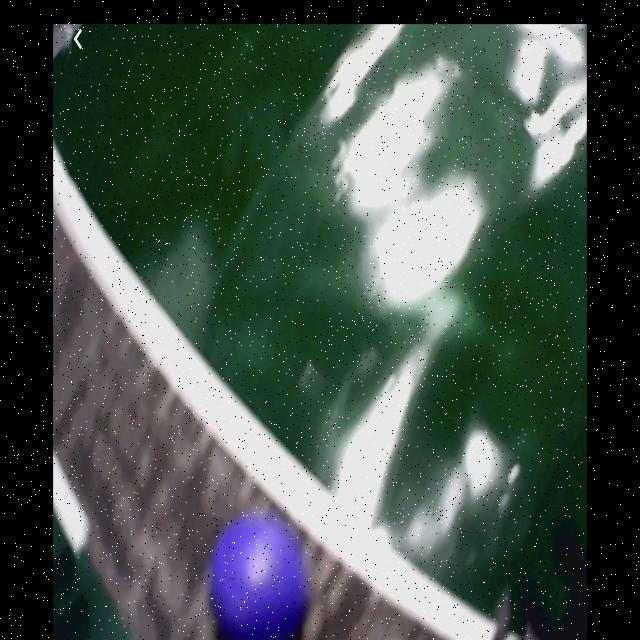ball: (211, 513, 311, 640)
